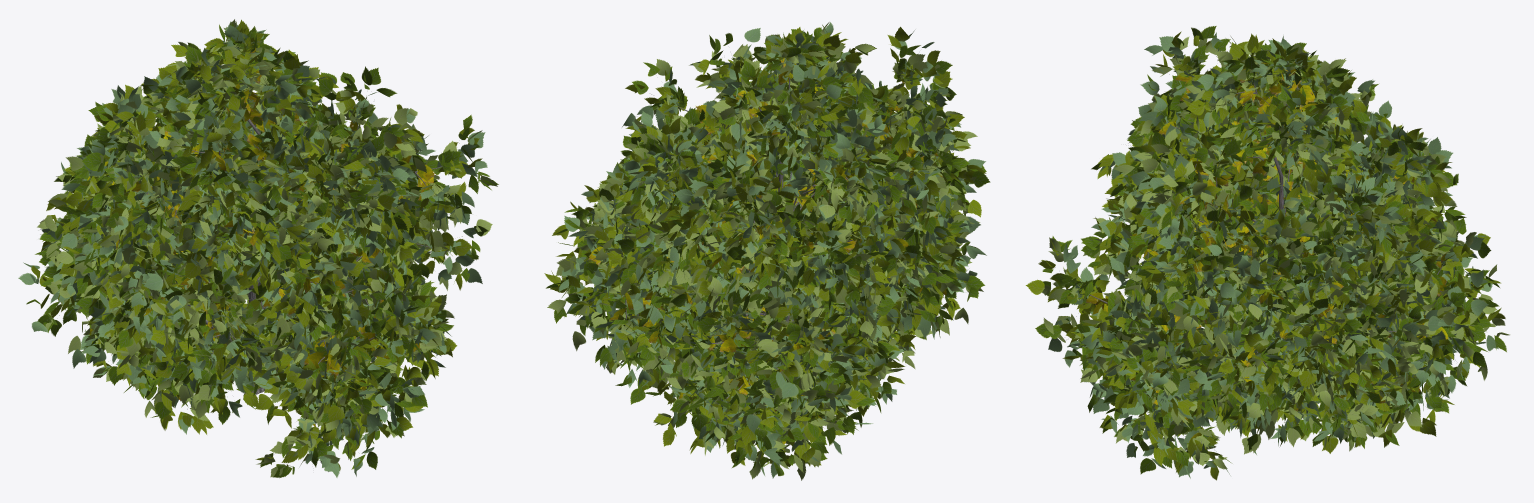
File: buisson-3.glb
The picture shows the model from 3 angles, left to right: view 1: azimuth 30°, elevation 25°; view 2: azimuth 150°, elevation 25°; view 3: azimuth 270°, elevation 25°; orthographic projection.
Parts seen in each view (by area): view 1: Bush 3 (smaller); view 2: Bush 3 (smaller); view 3: Bush 3 (smaller).
Part boxes in pixels (left/top/right/bottom): Bush 3 (smaller): left=18, top=19, right=498, bottom=477; Bush 3 (smaller): left=544, top=22, right=990, bottom=480; Bush 3 (smaller): left=1025, top=26, right=1509, bottom=480.
Size of the model in its own units: 1.47 by 1.5 by 1.56.
Materials: 6 (6 with a texture image).
